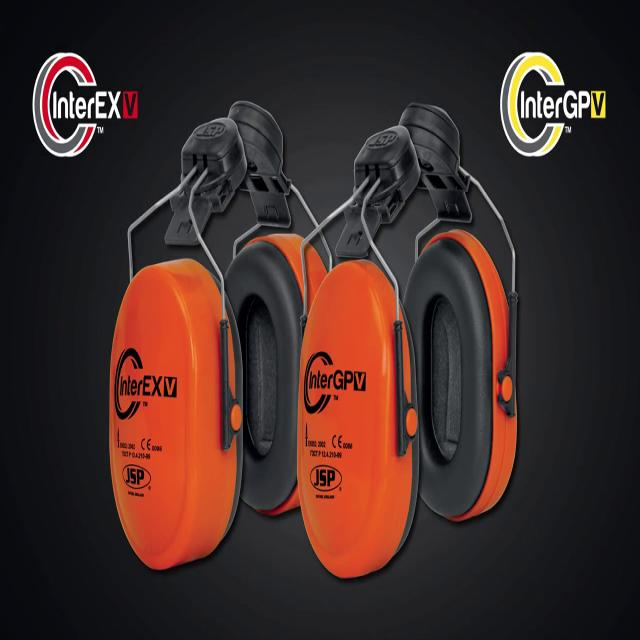earmuff: (105, 252, 248, 576), (294, 249, 425, 589), (398, 219, 523, 532), (216, 224, 333, 534)
